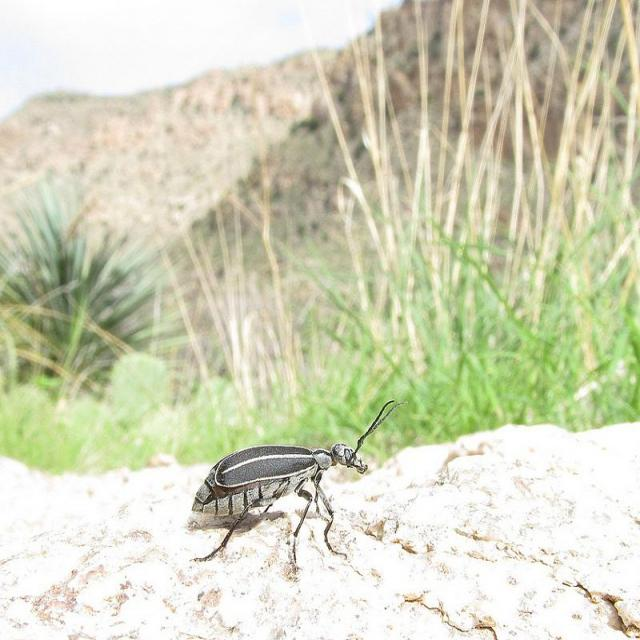BlisterBeetle-Adult-: (182, 389, 426, 574)
